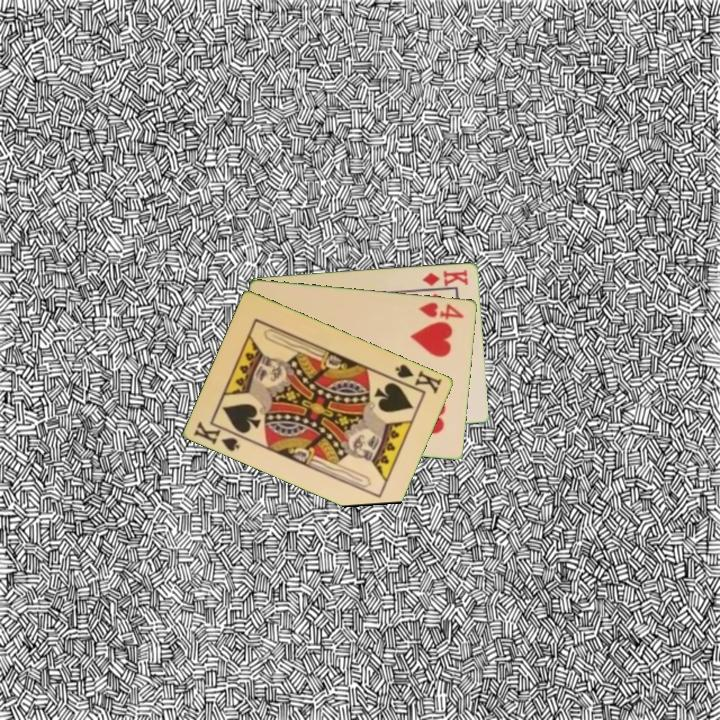4h: (415, 298, 467, 322)
Kd: (419, 266, 471, 289)
Ks: (191, 417, 248, 454), (389, 360, 445, 397)
